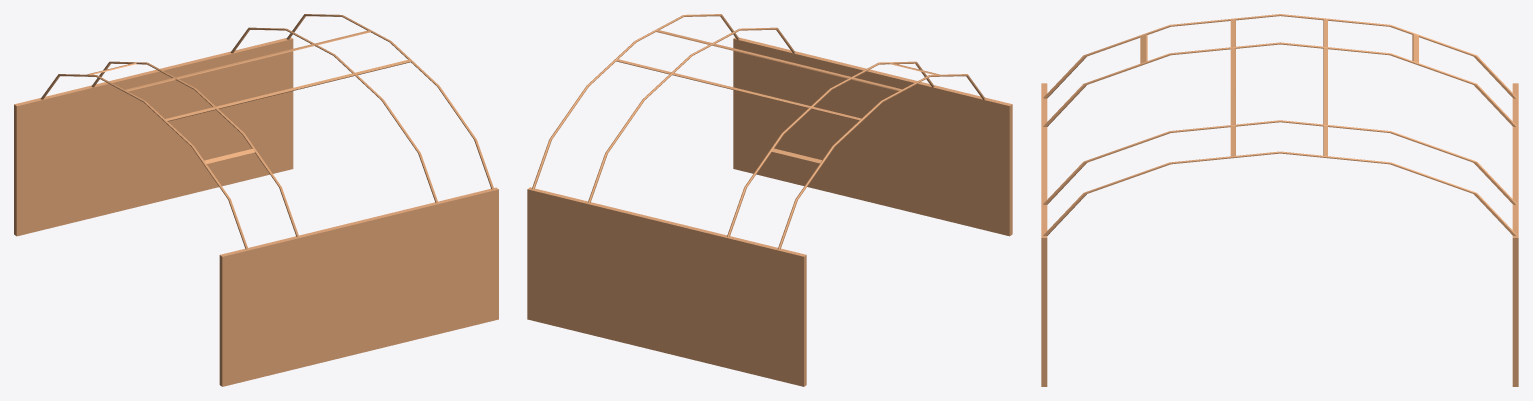
The model's file is Wall Ceiling.fbx.
The picture shows the model from 3 angles, left to right: view 1: azimuth 30°, elevation 25°; view 2: azimuth 150°, elevation 25°; view 3: azimuth 270°, elevation 25°; orthographic projection. The views are drawn at different scales.
Visible parts, largest first — view 1: Wall_Ceiling3; view 2: Wall_Ceiling3; view 3: Wall_Ceiling3.
Boxes of the visible parts, bbox=[...] form: Wall_Ceiling3: bbox=[14, 14, 498, 386]; Wall_Ceiling3: bbox=[527, 14, 1012, 386]; Wall_Ceiling3: bbox=[1041, 14, 1518, 386].
Size of the model in its own units: 58.86 by 41.37 by 76.82.
